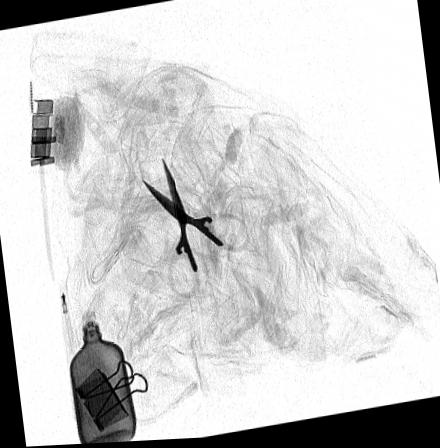Scissors: (137, 153, 251, 305)
